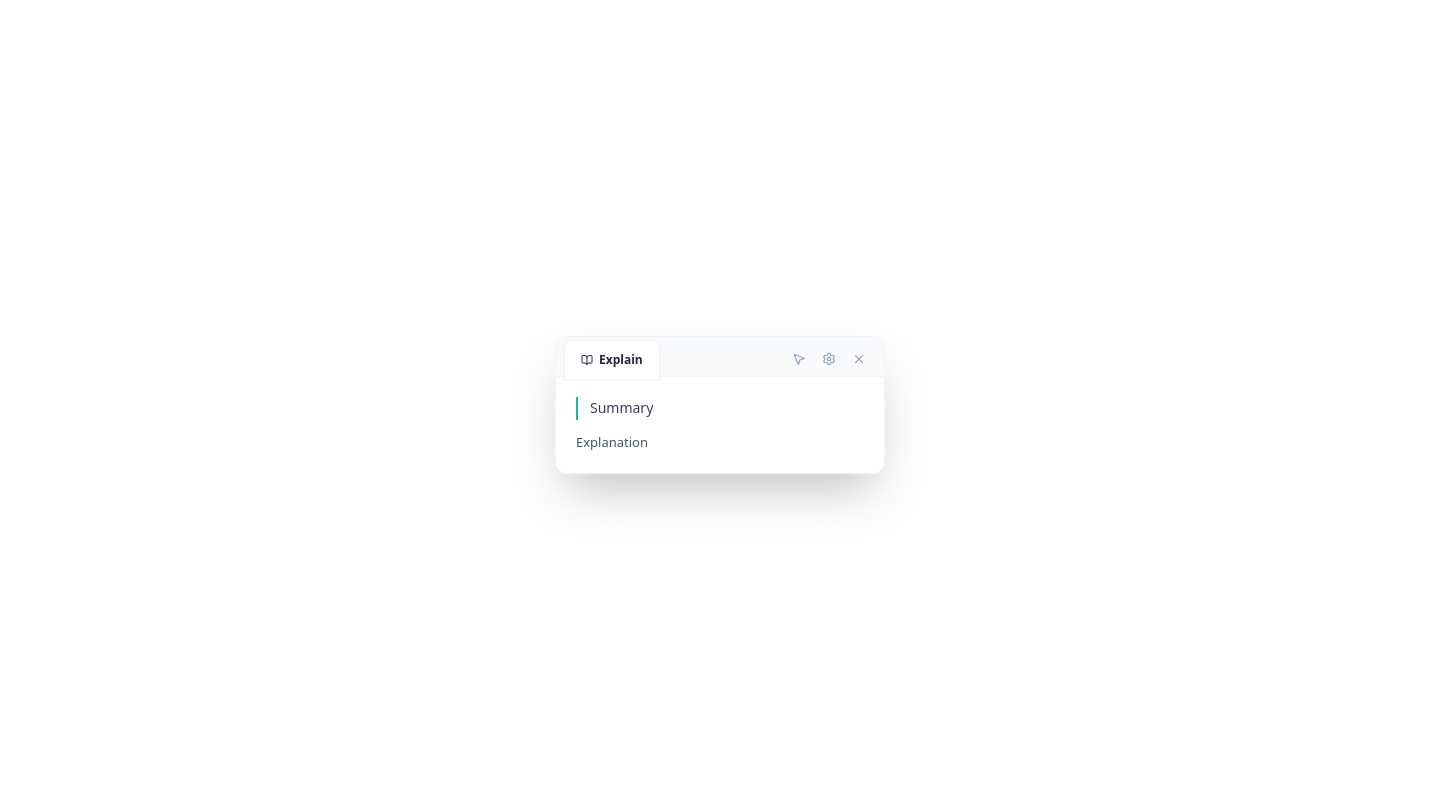
Test: Keyword Emphasis UI › should show keyword selection view when refine is clicked
Click the button titled "refine with keywords": click(799, 359) left=786, top=346, right=812, bottom=372
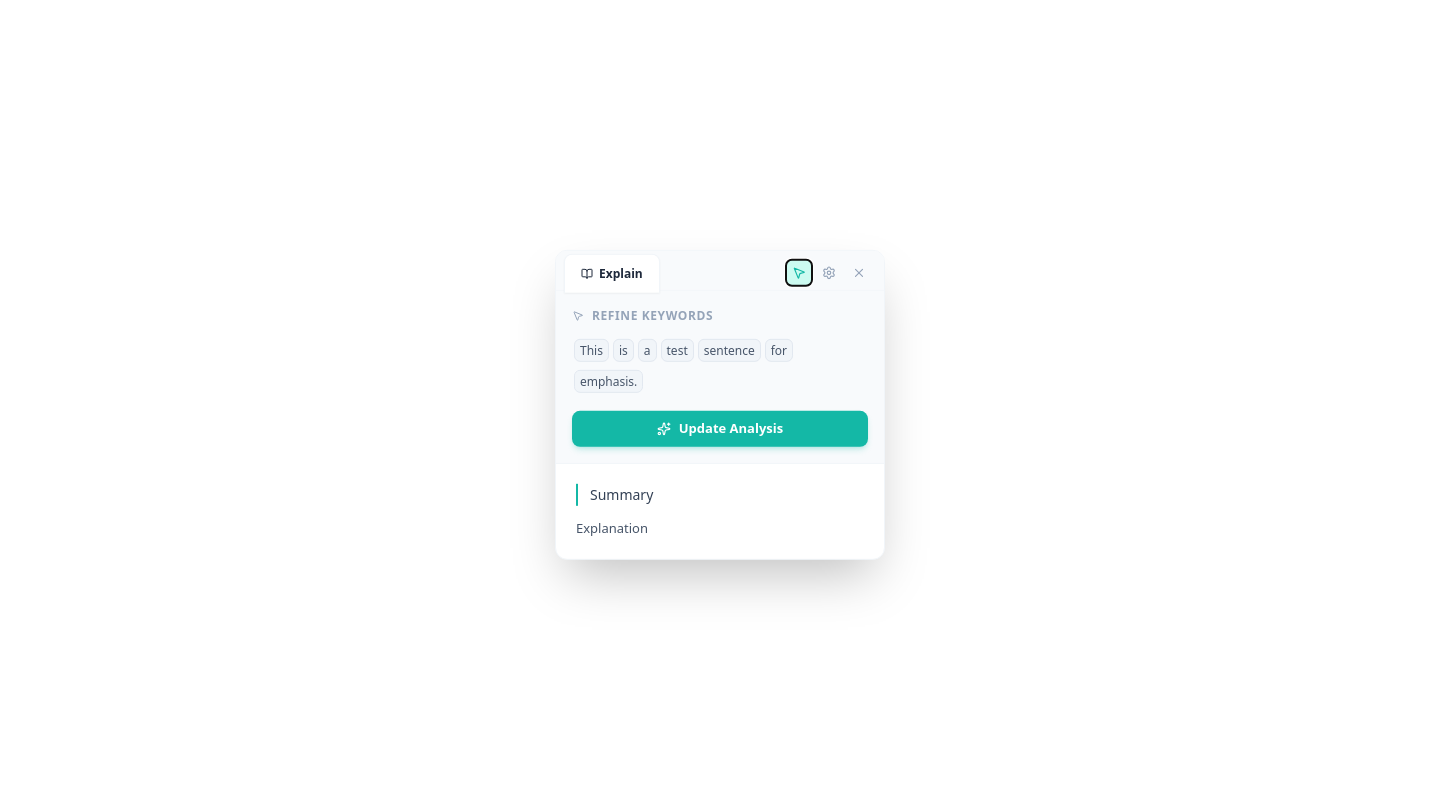
Now the heading "Refine Keywords" is shown, box left=592, top=307, right=713, bottom=325
Now the button "Update Analysis" is shown, box left=572, top=411, right=868, bottom=446
Now the button "This" is shown, box left=574, top=339, right=609, bottom=362
